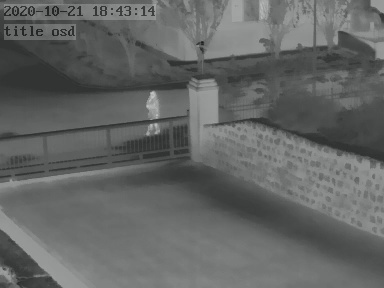person: (144, 86, 162, 136)
